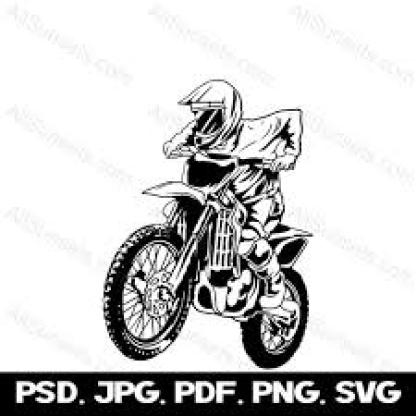bike: (84, 151, 323, 367)
